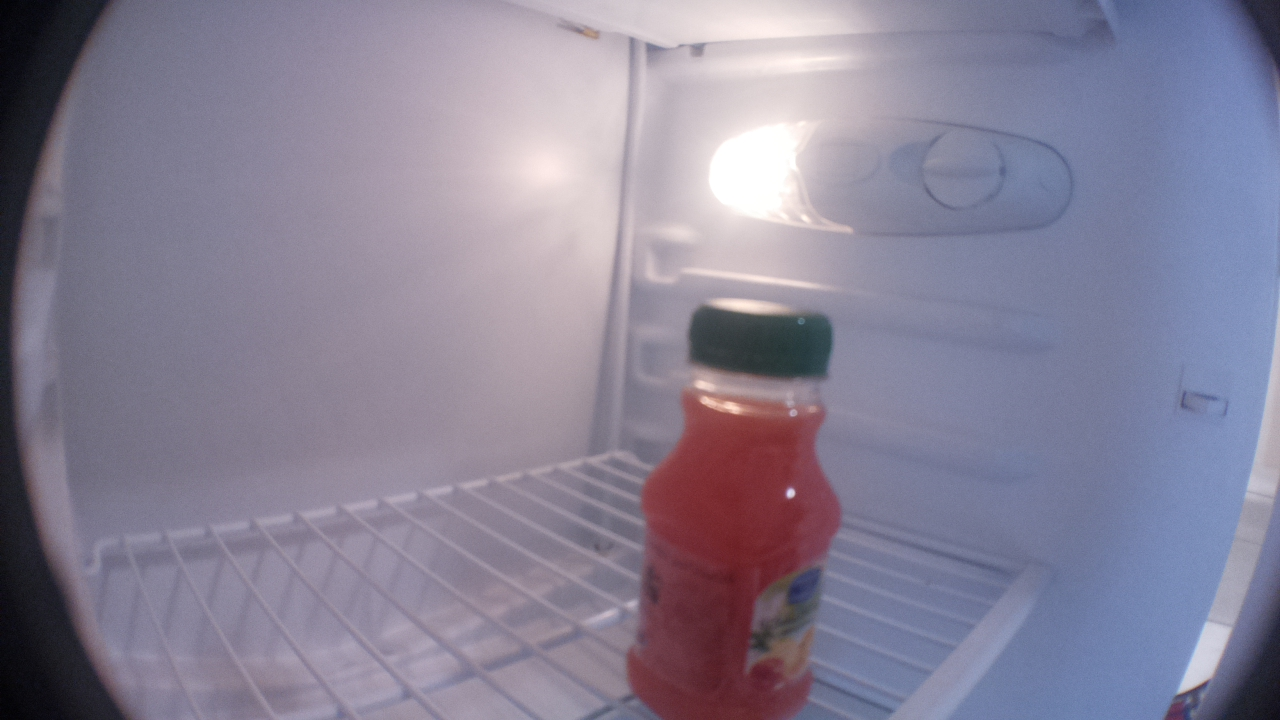juice: (625, 292, 846, 720)
